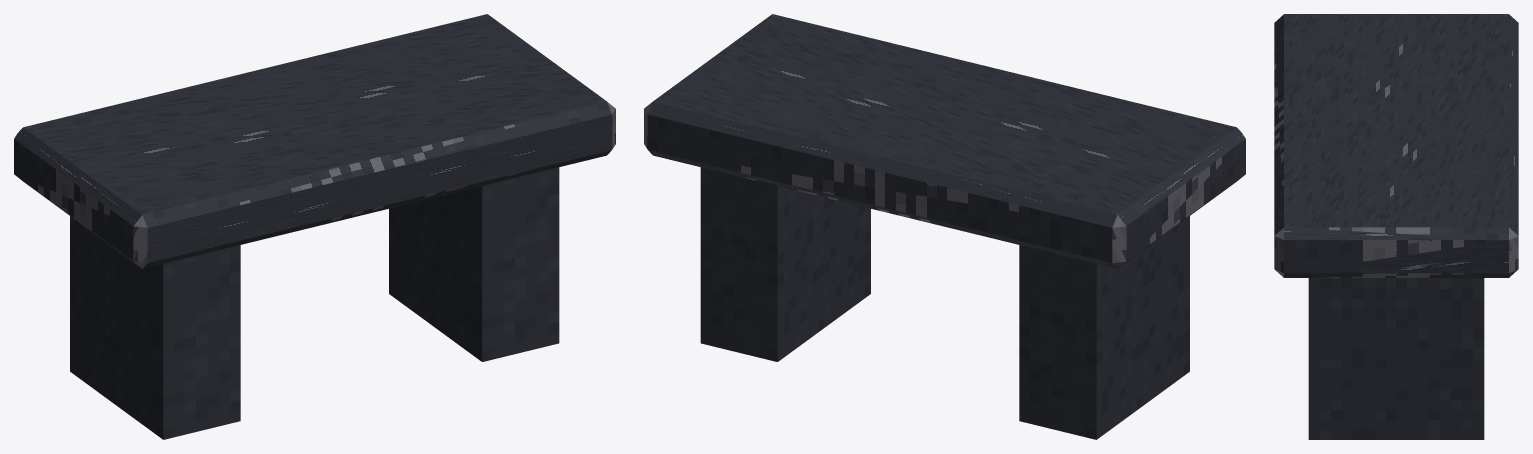
Rendered from f_vitrified_bench.glb.
The picture shows the model from 3 angles, left to right: view 1: azimuth 30°, elevation 25°; view 2: azimuth 150°, elevation 25°; view 3: azimuth 270°, elevation 25°; orthographic projection. The views are drawn at different scales.
Visible parts, largest first — view 1: block_low-cracked-bench-slab, block_black-glass-bench-foot (×2); view 2: block_low-cracked-bench-slab, block_black-glass-bench-foot (×2); view 3: block_low-cracked-bench-slab, block_black-glass-bench-foot.
Boxes of the visible parts, <box> form: block_low-cracked-bench-slab: <box>14,14,615,268</box>; block_black-glass-bench-foot (×2): <box>70,167,559,439</box>; block_low-cracked-bench-slab: <box>644,14,1245,268</box>; block_black-glass-bench-foot (×2): <box>700,167,1189,439</box>; block_low-cracked-bench-slab: <box>1274,14,1518,277</box>; block_black-glass-bench-foot: <box>1308,278,1484,439</box>.
Bounding box in the file's own units: 0.97 × 0.467 × 0.452.
Materials: 1 (1 with a texture image).
